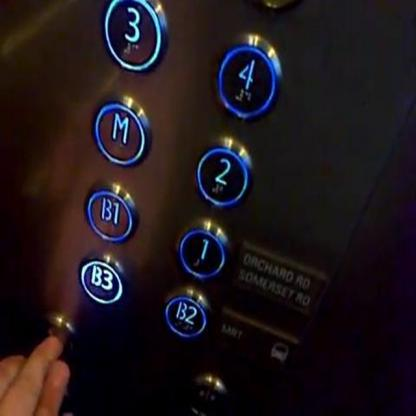1: (174, 218, 232, 283)
2: (192, 135, 256, 210)
3: (102, 0, 168, 75)
4: (217, 28, 284, 124)
B1: (84, 180, 140, 243)
B2: (156, 285, 213, 346)
B3: (74, 252, 128, 306)
M: (90, 96, 152, 167)
